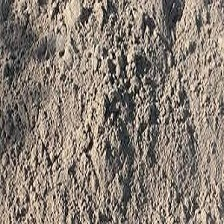sandy_soil: (4, 21, 219, 200)
